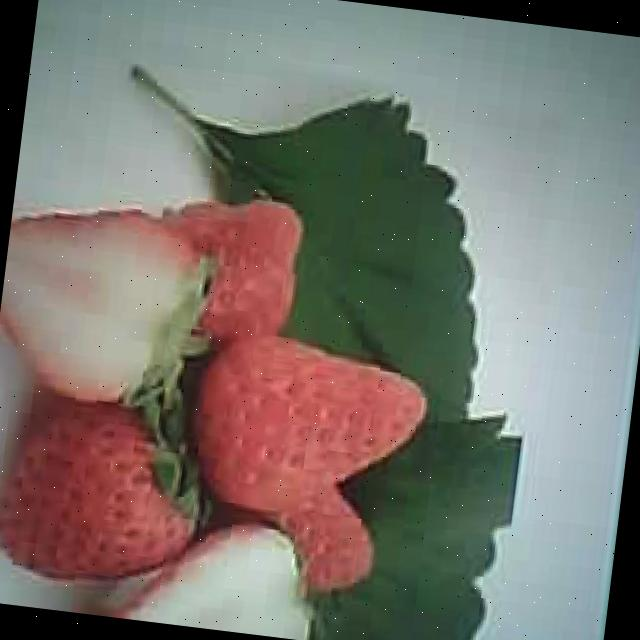strawberry: (183, 326, 430, 531), (0, 393, 208, 598)
